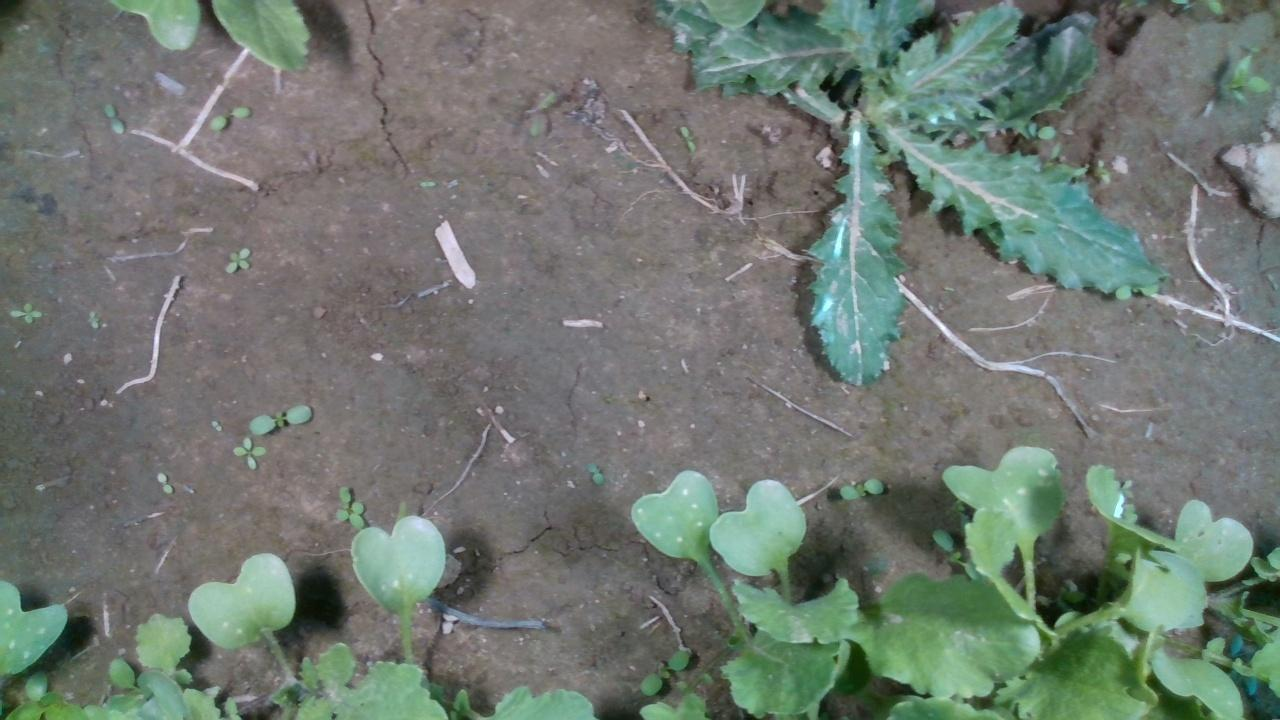weed: (247, 402, 313, 434), (333, 483, 364, 529), (205, 103, 250, 131), (230, 435, 266, 469), (838, 475, 884, 500), (223, 244, 251, 273), (102, 101, 125, 135), (8, 302, 43, 322), (676, 124, 696, 153), (155, 470, 173, 494), (585, 461, 603, 485), (85, 309, 102, 330), (209, 419, 222, 433)
